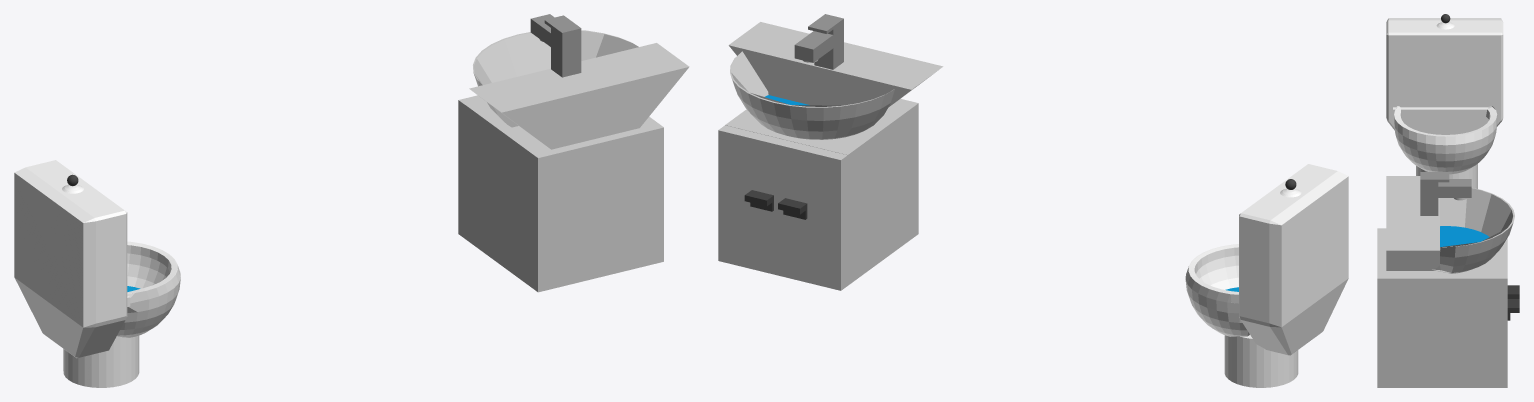
File: bathroomFurniture.fbx
The picture shows the model from 3 angles, left to right: view 1: azimuth 30°, elevation 25°; view 2: azimuth 150°, elevation 25°; view 3: azimuth 270°, elevation 25°; orthographic projection. The views are drawn at different scales.
Parts seen in each view (by area): view 1: washbasin, toilet; view 2: washbasin, toilet; view 3: washbasin, toilet.
Part boxes in pixels (x1=…): washbasin: x1=458, y1=14, x2=689, y2=292; toilet: x1=14, y1=160, x2=180, y2=387; washbasin: x1=718, y1=14, x2=943, y2=290; toilet: x1=1185, y1=164, x2=1348, y2=387; washbasin: x1=1377, y1=172, x2=1519, y2=387; toilet: x1=1386, y1=14, x2=1503, y2=188.
Size of the model in its own units: 960 by 368 by 239.
